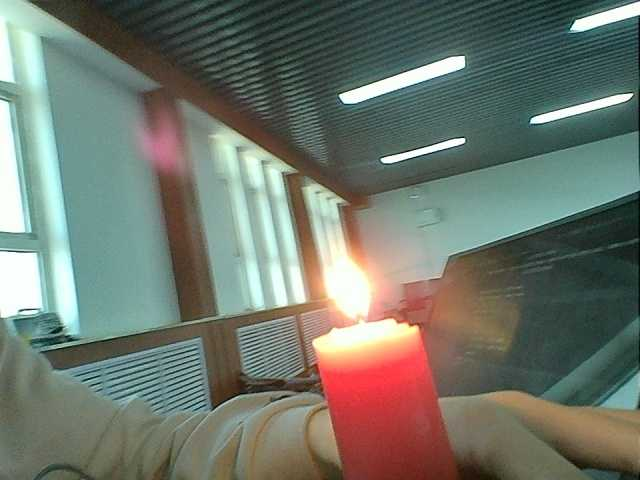candle: (304, 323, 481, 480)
fire: (311, 250, 390, 327)
